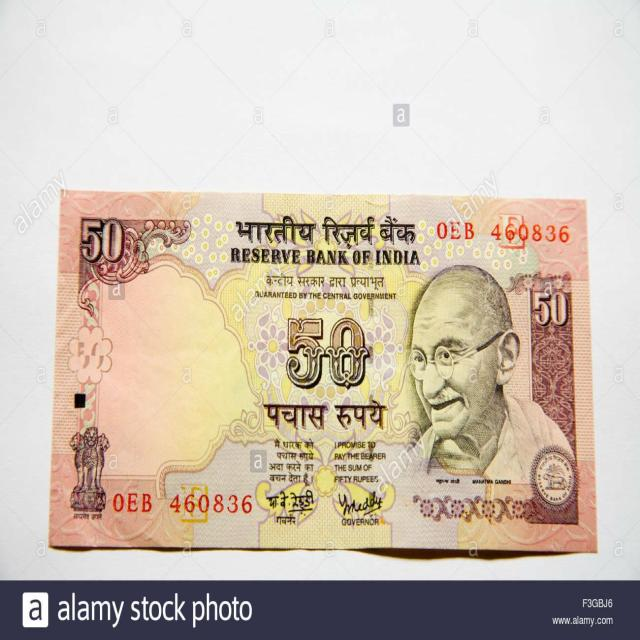50IndianRupees: (60, 195, 590, 551)
